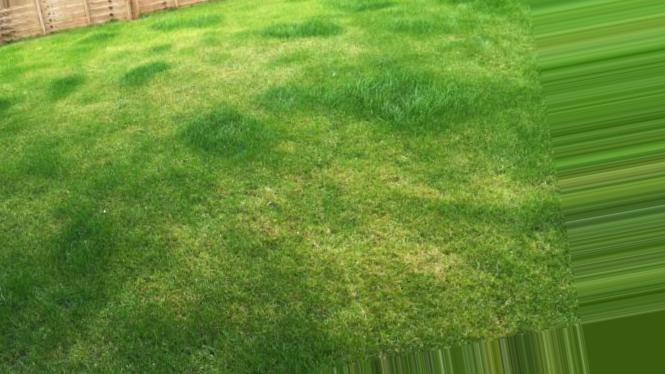patch: (282, 212, 449, 281), (102, 31, 261, 90), (308, 19, 479, 64), (295, 166, 431, 209), (30, 40, 96, 108), (212, 178, 272, 238), (106, 93, 175, 131), (266, 26, 302, 91), (474, 162, 524, 204)
